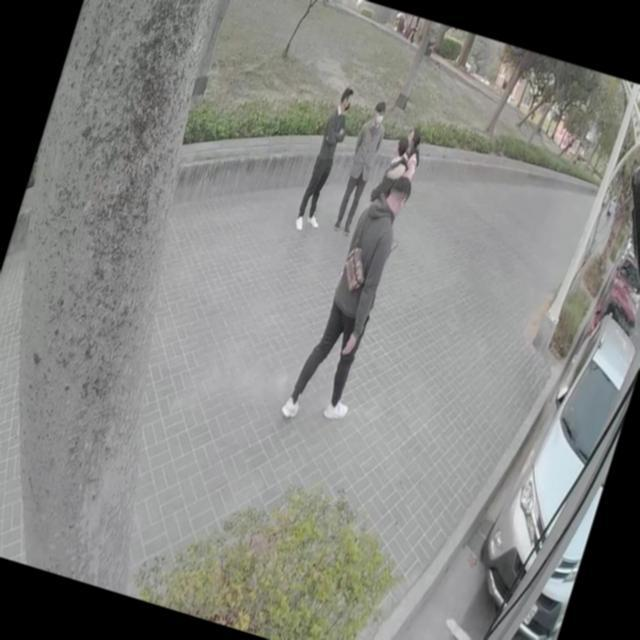person: (274, 157, 420, 440), (292, 84, 358, 231), (331, 99, 392, 234), (367, 126, 418, 209), (389, 117, 431, 189)
